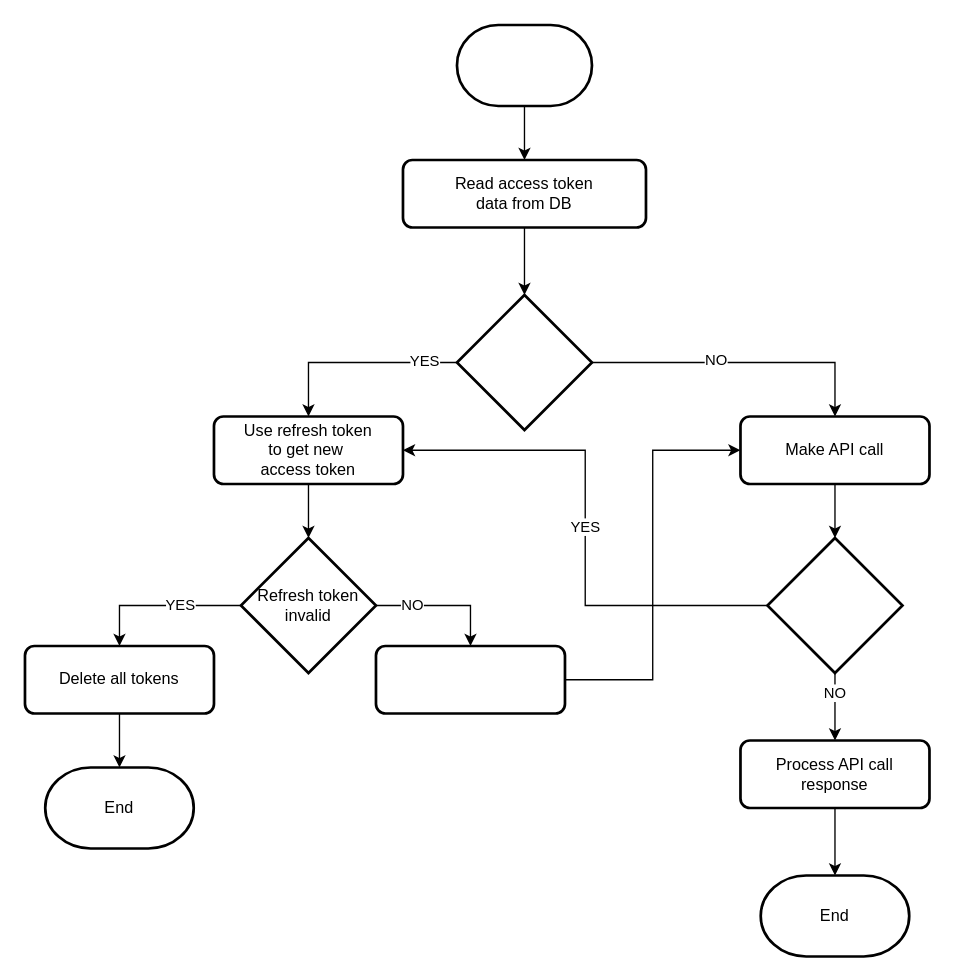
Some shapes in this 953 by 980 pixel diagram are drawn without their labels. Here are the shapes that lost their labels. From the top down, the centre of each, then its label:
pixel 524 65: Start API Request
pixel 524 362: Acces token expired
pixel 834 605: Access token invalid
pixel 470 679: Update access token and expiration in DB
